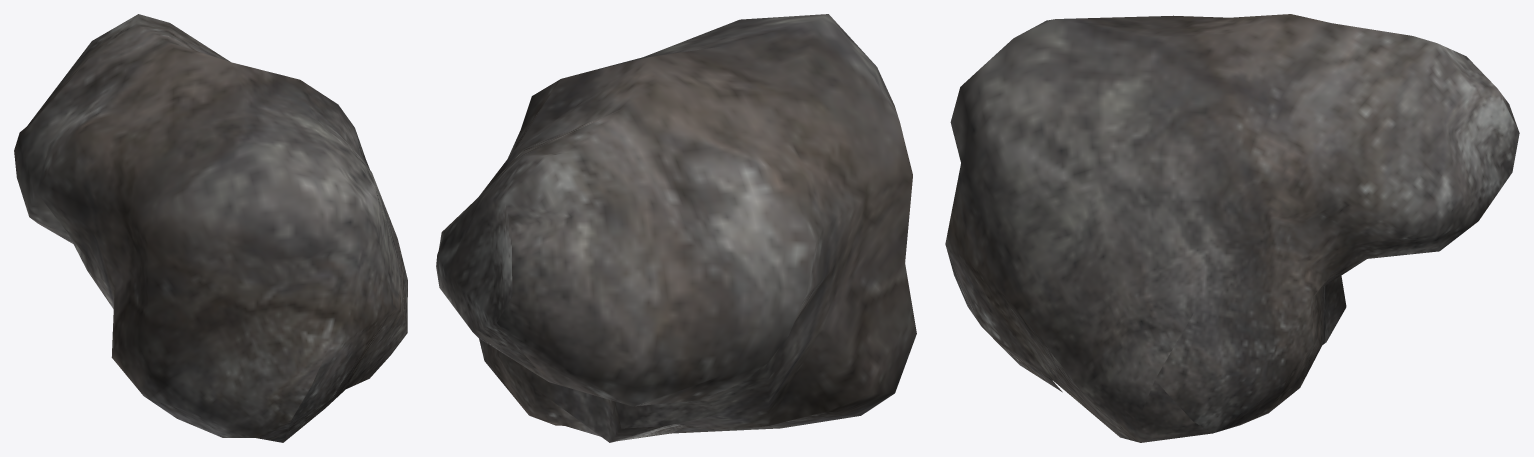
File: N_Rock_3.fbx
3 renders of one model, left to right at view 1: azimuth 30°, elevation 25°; view 2: azimuth 150°, elevation 25°; view 3: azimuth 270°, elevation 25°, orthographic. The views are drawn at different scales.
Visible parts, largest first — view 1: Large_6; view 2: Large_6; view 3: Large_6.
Boxes of the visible parts, <box> form: Large_6: <box>14,14,407,442</box>; Large_6: <box>436,14,916,442</box>; Large_6: <box>945,14,1519,442</box>.
Size of the model in its own units: 238 by 231 by 337.
